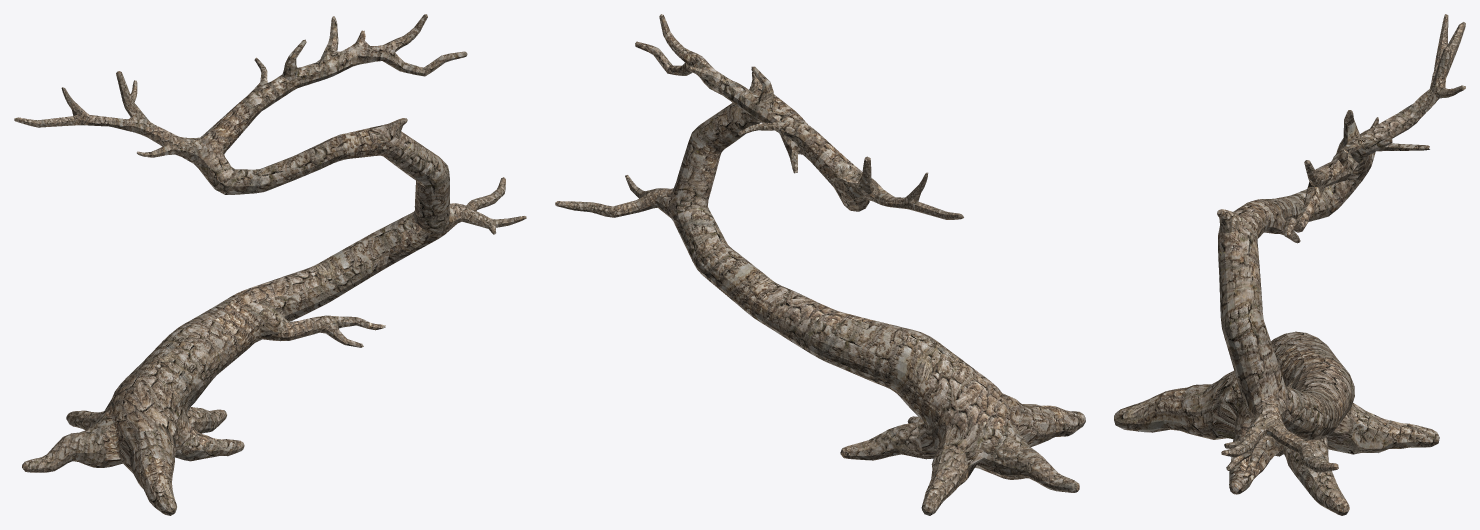
The model's file is TreeFour 1.fbx.
The picture shows the model from 3 angles, left to right: view 1: azimuth 30°, elevation 25°; view 2: azimuth 150°, elevation 25°; view 3: azimuth 270°, elevation 25°; orthographic projection. The views are drawn at different scales.
Parts seen in each view (by area): view 1: Tree_4; view 2: Tree_4; view 3: Tree_4.
Part boxes in pixels (x1=…): Tree_4: x1=14, y1=14, x2=526, y2=515; Tree_4: x1=555, y1=14, x2=1085, y2=515; Tree_4: x1=1114, y1=14, x2=1465, y2=515.
Size of the model in its own units: 1029 by 742 by 495.
